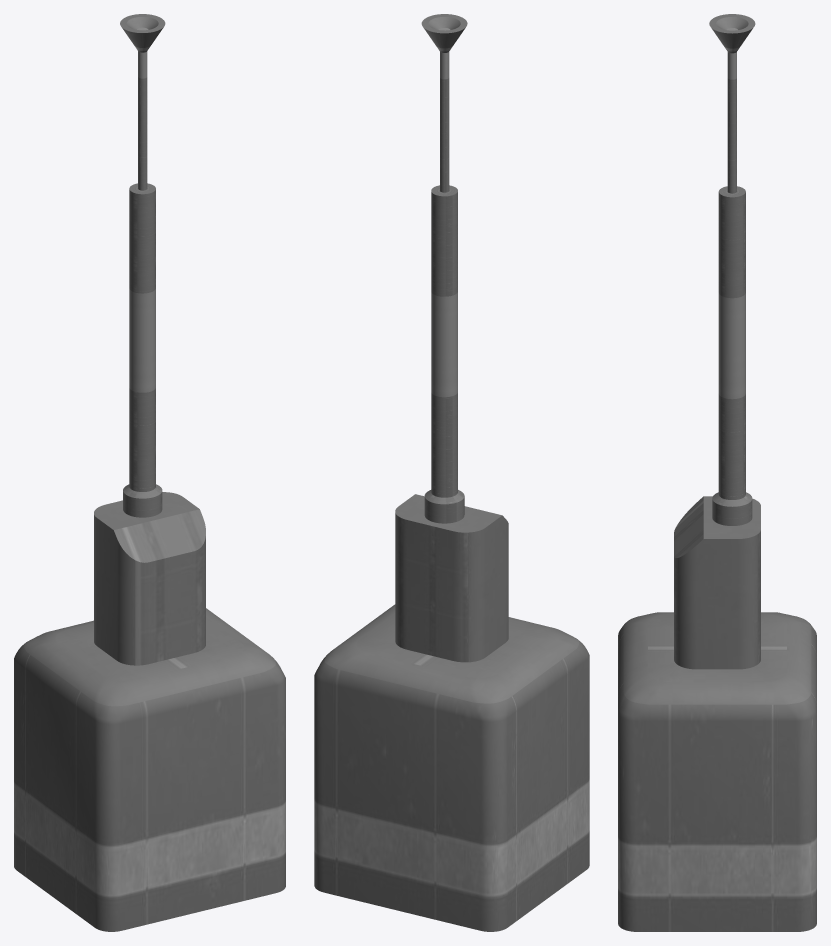
The model's file is SM_antenna_02.glb.
The picture shows the model from 3 angles, left to right: view 1: azimuth 30°, elevation 25°; view 2: azimuth 150°, elevation 25°; view 3: azimuth 270°, elevation 25°; orthographic projection.
Parts seen in each view (by area): view 1: SM_antenna_02; view 2: SM_antenna_02; view 3: SM_antenna_02.
Part boxes in pixels (x1,y1,x2,y2): SM_antenna_02: [14, 14, 285, 931]; SM_antenna_02: [314, 14, 589, 931]; SM_antenna_02: [618, 14, 816, 931].
Size of the model in its own units: 1.85 by 7.97 by 1.67.
Materials: 1 (1 with a texture image).
